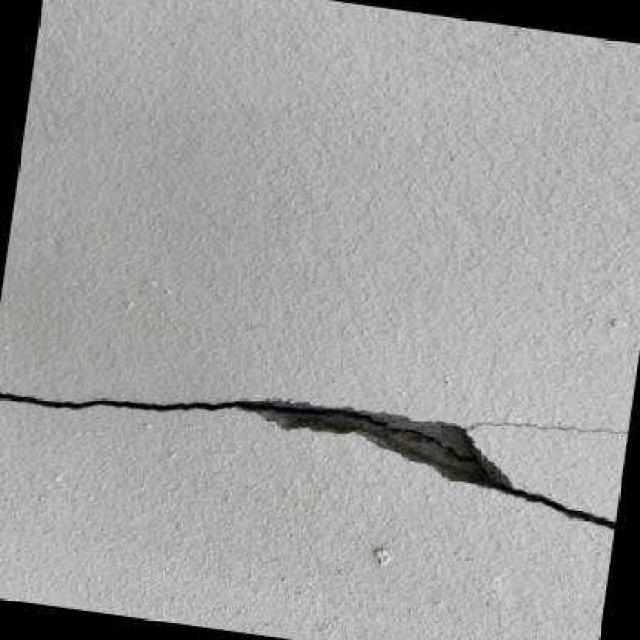D00: (0, 389, 628, 530)
